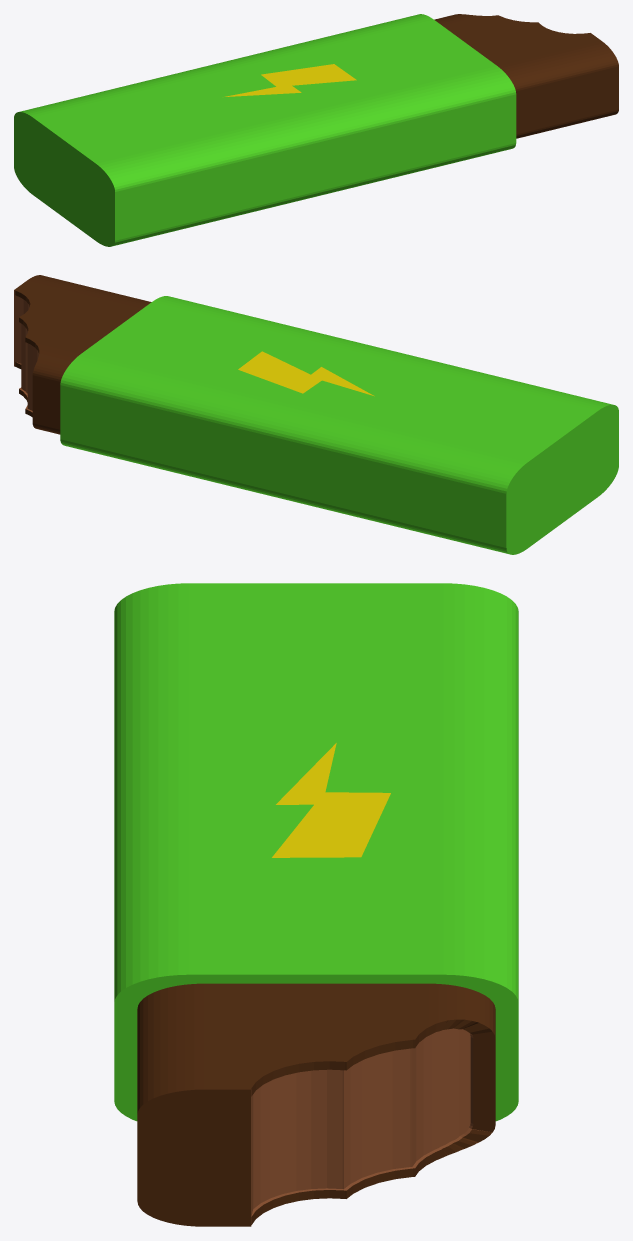
The model's file is EnergyBar.fbx.
3 renders of one model, top to bottom at view 1: azimuth 30°, elevation 25°; view 2: azimuth 150°, elevation 25°; view 3: azimuth 270°, elevation 25°, orthographic. The views are drawn at different scales.
Visible parts, largest first — view 1: Cube; view 2: Cube; view 3: Cube.
Part boxes in pixels (x1=…): Cube: x1=14, y1=14, x2=618, y2=246; Cube: x1=14, y1=275, x2=618, y2=554; Cube: x1=114, y1=583, x2=518, y2=1226.
Size of the model in its own units: 779 by 113 by 268.
